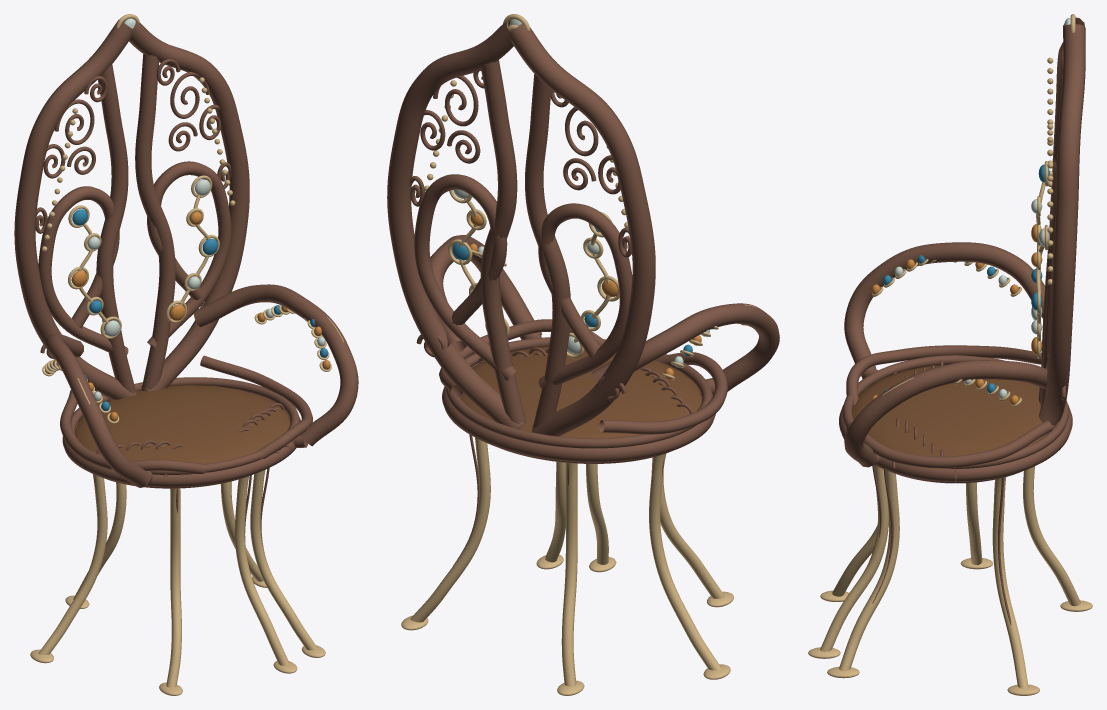
The picture shows the model from 3 angles, left to right: view 1: azimuth 30°, elevation 25°; view 2: azimuth 150°, elevation 25°; view 3: azimuth 270°, elevation 25°; orthographic projection. The views are drawn at different scales.
Visible parts, largest first — view 1: oval upholstered seat, outer leaf-shaped back frame, outer leaf-shaped back frame.001, inner flowing back upright.001, scrolled open armrest.001, inner flowing back upright, curved back cross branch, curved back cross branch.001, scrolled open armrest, oval seat edge, oval seat edge.001, swept slender gilded leg.004 (+9 smaller); view 2: outer leaf-shaped back frame, outer leaf-shaped back frame.001, oval upholstered seat, inner flowing back upright.001, inner flowing back upright, curved back cross branch.001, curved back cross branch, scrolled open armrest, oval seat edge, oval seat edge.001, swept slender gilded leg.003, swept slender gilded leg.002 (+9 smaller); view 3: oval upholstered seat, outer leaf-shaped back frame.001, scrolled open armrest, scrolled open armrest.001, oval seat edge, seat side scallop, oval seat edge.001, seat side scallop.001, swept slender gilded leg, swept slender gilded leg.001, swept slender gilded leg.005, swept slender gilded leg.002 (+6 smaller).
Boxes of the visible parts, x1,y1,x2,y2 form: oval upholstered seat: (75, 385, 290, 463); outer leaf-shaped back frame: (14, 19, 136, 399); outer leaf-shaped back frame.001: (123, 19, 249, 391); inner flowing back upright.001: (135, 54, 175, 391); scrolled open armrest.001: (193, 284, 358, 446); inner flowing back upright: (96, 64, 136, 393); curved back cross branch: (38, 186, 128, 355); curved back cross branch.001: (147, 161, 231, 348); scrolled open armrest: (46, 333, 150, 487); oval seat edge: (62, 392, 300, 487); oval seat edge.001: (71, 377, 299, 474); swept slender gilded leg.004: (166, 488, 181, 687); outer leaf-shaped back frame: (509, 23, 655, 436); outer leaf-shaped back frame.001: (387, 20, 525, 428); oval upholstered seat: (459, 346, 701, 438); inner flowing back upright.001: (480, 60, 526, 429); inner flowing back upright: (525, 74, 570, 427); curved back cross branch.001: (414, 174, 516, 380); curved back cross branch: (538, 203, 632, 389); scrolled open armrest: (591, 303, 779, 391); oval seat edge: (442, 360, 715, 462); oval seat edge.001: (445, 337, 712, 448); swept slender gilded leg.003: (649, 453, 721, 670); swept slender gilded leg.002: (561, 462, 577, 686); oval upholstered seat: (852, 365, 1054, 471); outer leaf-shaped back frame.001: (1038, 24, 1085, 425); scrolled open armrest: (844, 242, 1044, 376); scrolled open armrest.001: (844, 360, 1047, 467); oval seat edge: (839, 364, 1072, 481); seat side scallop: (846, 345, 1041, 405); oval seat edge.001: (842, 355, 1069, 468); seat side scallop.001: (846, 420, 1052, 468); swept slender gilded leg: (839, 470, 899, 670); swept slender gilded leg.001: (992, 477, 1028, 688); swept slender gilded leg.005: (820, 465, 888, 651); swept slender gilded leg.002: (1023, 466, 1080, 606).
Size of the model in its own units: 0.491 by 1 by 0.4167.
